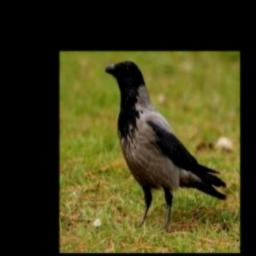Crow: (105, 60, 228, 228)
